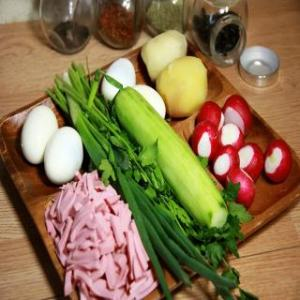egg: (46, 124, 84, 183), (22, 104, 57, 164), (100, 58, 138, 104)
potato: (152, 53, 212, 120), (138, 28, 192, 87)
